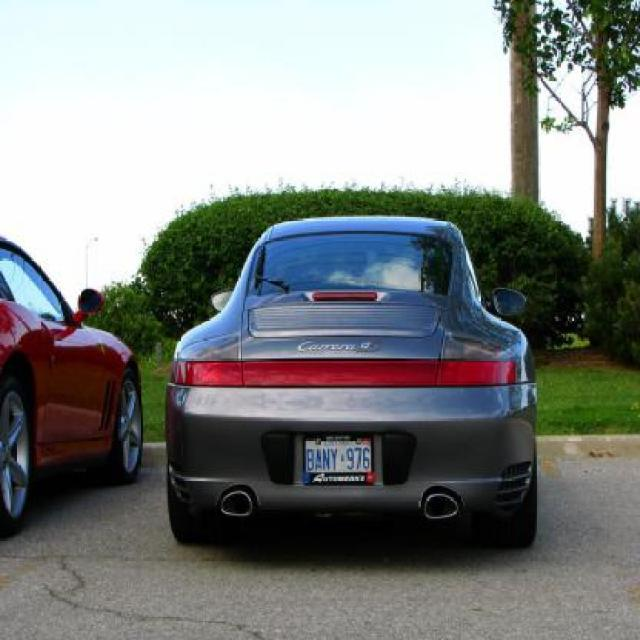License-Plates: (291, 427, 380, 493)
